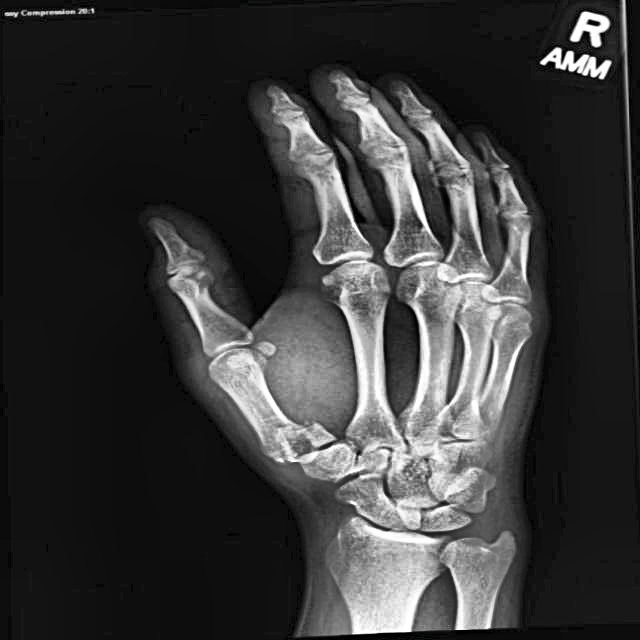Comminuted: (260, 412, 347, 474)
